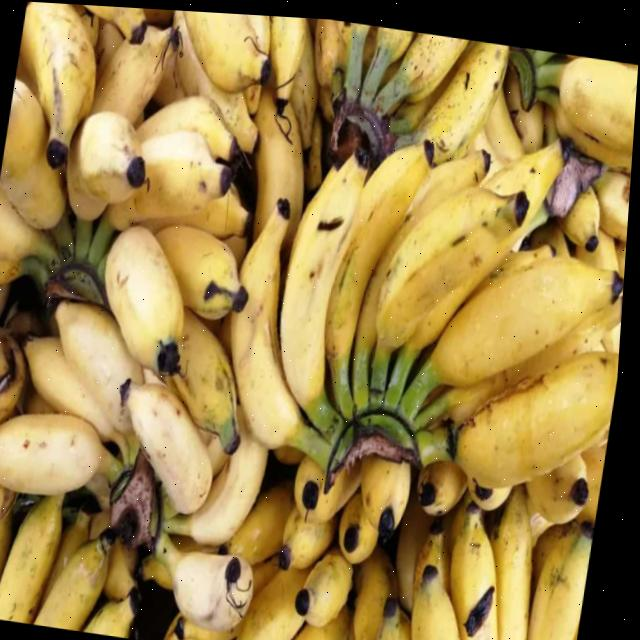Banana: (376, 135, 568, 386), (284, 138, 434, 437), (235, 195, 337, 464), (284, 147, 368, 436), (108, 224, 188, 371), (177, 306, 245, 451), (158, 222, 251, 316)
